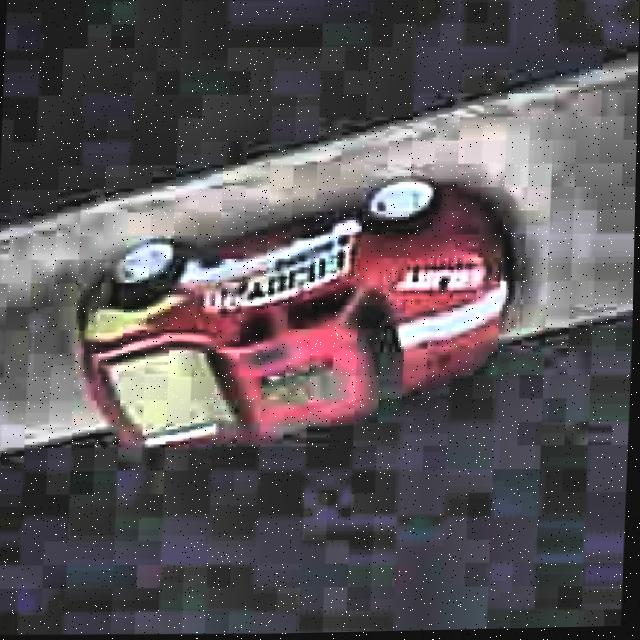car: (69, 165, 518, 462)
